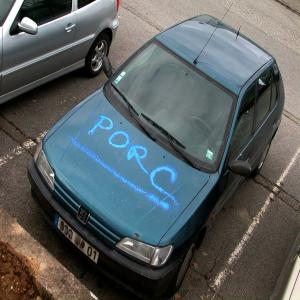Vehicle-registration-plate: (58, 217, 100, 266)
